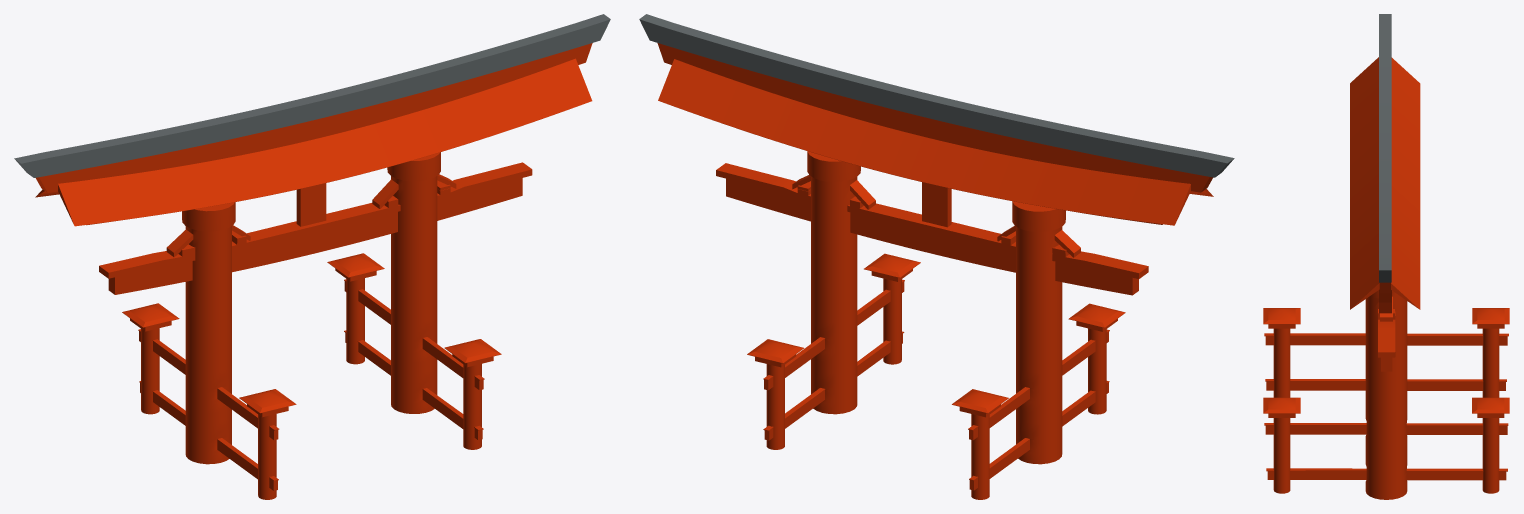
File: torii.fbx
The picture shows the model from 3 angles, left to right: view 1: azimuth 30°, elevation 25°; view 2: azimuth 150°, elevation 25°; view 3: azimuth 270°, elevation 25°; orthographic projection. The views are drawn at different scales.
Visible parts, largest first — view 1: loftedSurface8, loftedSurface6, OoHasiraleft, OoHasiraRight, loftedSurface9, loftedSurface3, loftedSurface7, HasiraRightBack, HasiraRightFront, pCylinder2, pCylinder1, YaneLeft (+3 smaller); view 2: loftedSurface8, loftedSurface6, OoHasiraleft, OoHasiraRight, loftedSurface9, loftedSurface3, loftedSurface7, HasiraRightBack, pCylinder2, pCylinder1, HasiraRightFront, YaneRightFront1 (+3 smaller); view 3: loftedSurface8, OoHasiraRight, OoHasiraleft, loftedSurface6, HasiraRightBack, HasiraRightFront, pCylinder1, pCylinder2, loftedSurface7, YaneRightFront, YaneRightFront1, YaneLeft (+1 smaller).
Part boxes in pixels (box(x1,y1,x2,y2)): loftedSurface8: box(35, 58, 592, 226); loftedSurface6: box(14, 14, 610, 177); OoHasiraleft: box(138, 202, 279, 490); OoHasiraRight: box(344, 152, 484, 440); loftedSurface9: box(36, 43, 592, 192); loftedSurface3: box(108, 178, 522, 294); loftedSurface7: box(99, 162, 532, 278); HasiraRightBack: box(346, 278, 364, 364); HasiraRightFront: box(463, 364, 481, 449); pCylinder2: box(141, 328, 159, 414); pCylinder1: box(258, 414, 276, 499); YaneLeft: box(239, 389, 296, 413); loftedSurface8: box(658, 59, 1213, 225); loftedSurface6: box(639, 14, 1234, 177); OoHasiraleft: box(968, 201, 1109, 490); OoHasiraRight: box(763, 151, 904, 440); loftedSurface9: box(657, 43, 1212, 192); loftedSurface3: box(726, 178, 1138, 295); loftedSurface7: box(716, 163, 1148, 278); HasiraRightBack: box(766, 364, 784, 449); pCylinder2: box(971, 414, 989, 499); pCylinder1: box(1088, 328, 1106, 414); HasiraRightFront: box(883, 278, 901, 364); YaneRightFront1: box(747, 339, 803, 363); loftedSurface8: box(1350, 57, 1420, 309); OoHasiraRight: box(1264, 290, 1508, 499); OoHasiraleft: box(1264, 333, 1508, 390); loftedSurface6: box(1379, 14, 1391, 282); HasiraRightBack: box(1482, 418, 1499, 493); HasiraRightFront: box(1273, 418, 1290, 493); pCylinder1: box(1273, 328, 1290, 397); pCylinder2: box(1482, 328, 1499, 397); loftedSurface7: box(1378, 309, 1395, 357); YaneRightFront: box(1263, 397, 1300, 413); YaneRightFront1: box(1472, 397, 1509, 413); YaneLeft: box(1263, 308, 1300, 324).
Size of the model in its own units: 29.09 by 16.08 by 11.8.
